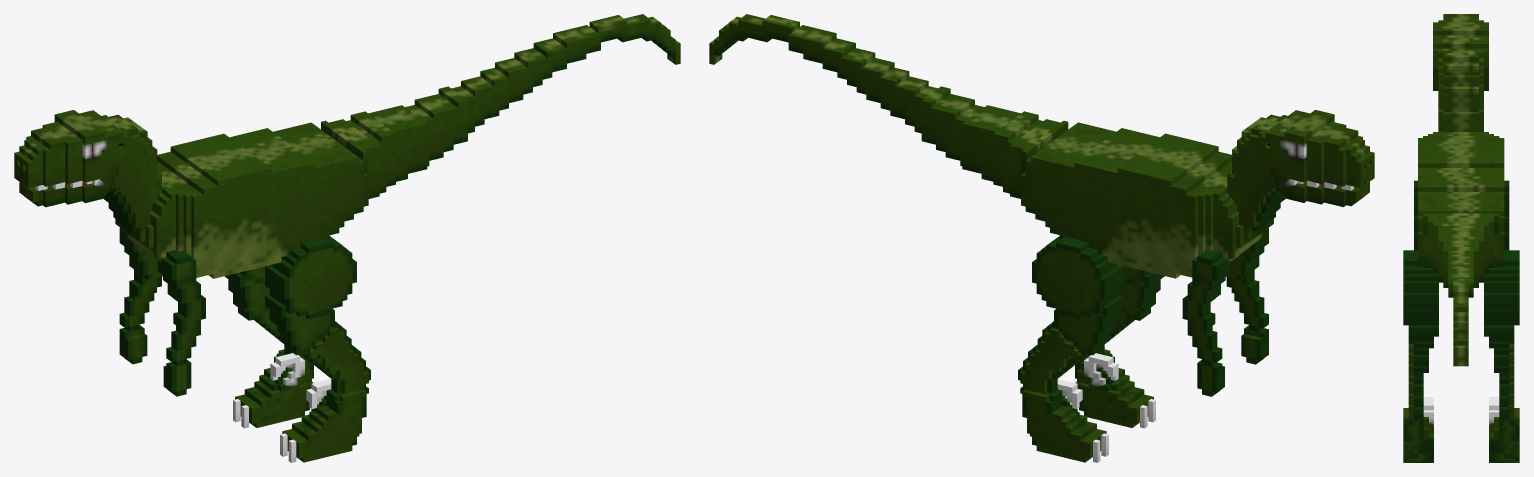
Rendered from VoxelRaptor.dae.
3 views of the same model, side by side, from view 1: azimuth 30°, elevation 25°; view 2: azimuth 150°, elevation 25°; view 3: azimuth 270°, elevation 25° (orthographic). The views are drawn at different scales.
Parts seen in each view (by area): view 1: Raptor_Separated.Migrated.002, Raptor_Separated.Migrated.007, Raptor_Separated.Migrated.006, Raptor_Separated.Migrated, Raptor_Separated.Migrated.005, Raptor_Separated.Migrated.003, Raptor_Separated.Migrated.004, Raptor_Separated.Migrated.001; view 2: Raptor_Separated.Migrated.002, Raptor_Separated.Migrated.007, Raptor_Separated.Migrated.005, Raptor_Separated.Migrated, Raptor_Separated.Migrated.006, Raptor_Separated.Migrated.004, Raptor_Separated.Migrated.003, Raptor_Separated.Migrated.001; view 3: Raptor_Separated.Migrated.002, Raptor_Separated.Migrated.007, Raptor_Separated.Migrated.005, Raptor_Separated.Migrated.006, Raptor_Separated.Migrated, Raptor_Separated.Migrated.004, Raptor_Separated.Migrated.003, Raptor_Separated.Migrated.001.
Boxes of the visible parts, x1,y1,x2,y2 form: Raptor_Separated.Migrated.002: (126, 122, 368, 278); Raptor_Separated.Migrated.007: (321, 14, 680, 198); Raptor_Separated.Migrated.006: (265, 236, 370, 462); Raptor_Separated.Migrated: (14, 110, 161, 242); Raptor_Separated.Migrated.005: (225, 266, 313, 428); Raptor_Separated.Migrated.003: (158, 250, 205, 396); Raptor_Separated.Migrated.004: (119, 227, 162, 364); Raptor_Separated.Migrated.001: (19, 164, 118, 207); Raptor_Separated.Migrated.002: (1021, 122, 1263, 278); Raptor_Separated.Migrated.007: (709, 14, 1068, 198); Raptor_Separated.Migrated.005: (1018, 236, 1123, 462); Raptor_Separated.Migrated: (1227, 110, 1374, 242); Raptor_Separated.Migrated.006: (1075, 266, 1164, 428); Raptor_Separated.Migrated.004: (1182, 249, 1230, 396); Raptor_Separated.Migrated.003: (1225, 228, 1268, 364); Raptor_Separated.Migrated.001: (1270, 164, 1369, 207); Raptor_Separated.Migrated.002: (1418, 132, 1504, 267); Raptor_Separated.Migrated.007: (1423, 213, 1499, 366); Raptor_Separated.Migrated.005: (1484, 250, 1519, 462); Raptor_Separated.Migrated.006: (1403, 250, 1438, 462); Raptor_Separated.Migrated: (1433, 14, 1488, 131); Raptor_Separated.Migrated.004: (1504, 180, 1509, 250); Raptor_Separated.Migrated.003: (1414, 180, 1417, 250); Raptor_Separated.Migrated.001: (1433, 69, 1488, 90).
Bounding box in the file's own units: 13.51 × 2.28 × 7.16.
1 material, 1 textured.
